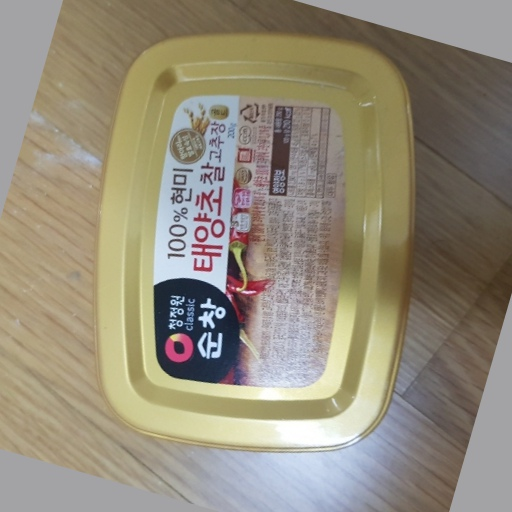Plastic_4: (96, 35, 414, 457)
